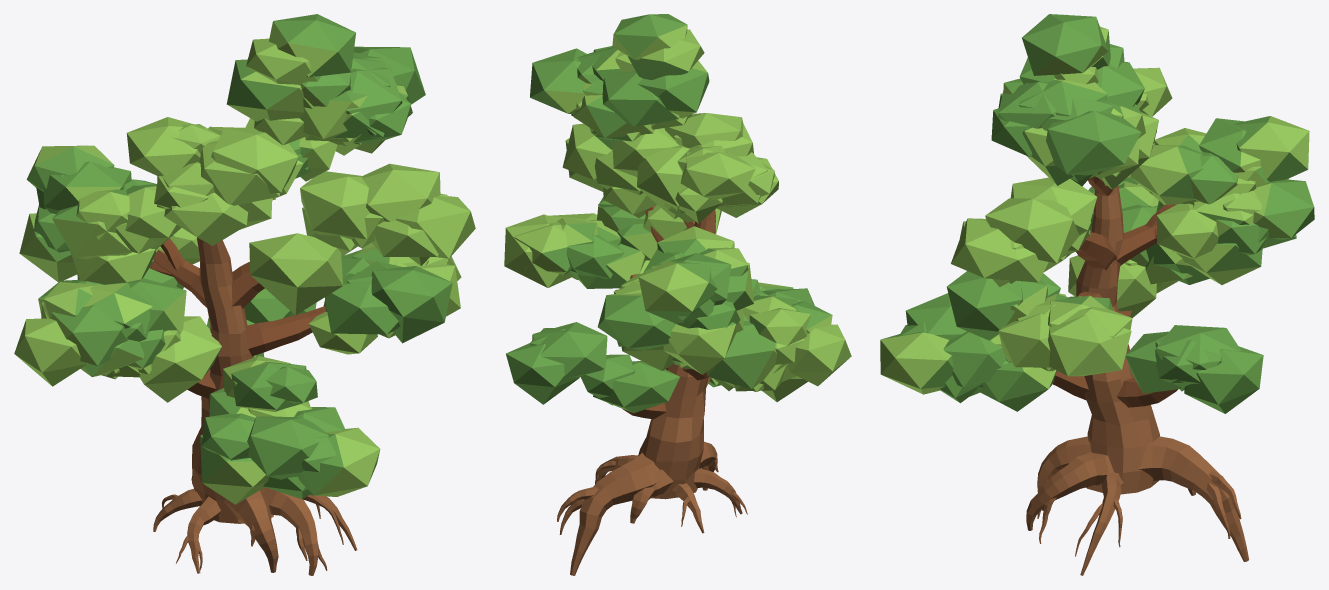
Rendered from tree_b.glb.
3 views of the same model, side by side, from view 1: azimuth 30°, elevation 25°; view 2: azimuth 150°, elevation 25°; view 3: azimuth 270°, elevation 25° (orthographic). The views are drawn at different scales.
Visible parts, largest first — view 1: BranchLeaves_6, BranchLeaves_0, BranchLeaves_5, BranchLeaves_2, BranchLeaves_4, CanopyLeaves, TreeWood, BranchLeaves_3, Branch.003, Branch.004, BranchLeaves_1, Branch.005; view 2: BranchLeaves_6, BranchLeaves_4, TreeWood, CanopyLeaves, BranchLeaves_3, BranchLeaves_2, BranchLeaves_1, BranchLeaves_5, BranchLeaves_0; view 3: BranchLeaves_4, BranchLeaves_6, TreeWood, BranchLeaves_3, BranchLeaves_0, BranchLeaves_5, BranchLeaves_1, BranchLeaves_2, CanopyLeaves, Branch.004, Branch.005, Branch.001 (+1 smaller).
Part boxes in pixels (x1,y1,x2,y2): BranchLeaves_6: [226, 14, 425, 181]; BranchLeaves_0: [200, 356, 380, 504]; BranchLeaves_5: [249, 163, 475, 315]; BranchLeaves_2: [14, 272, 221, 402]; BranchLeaves_4: [19, 145, 199, 288]; CanopyLeaves: [126, 117, 303, 245]; TreeWood: [153, 237, 357, 575]; BranchLeaves_3: [309, 242, 461, 354]; Branch.003: [247, 306, 325, 356]; Branch.004: [149, 238, 206, 307]; BranchLeaves_1: [206, 288, 316, 357]; Branch.005: [231, 261, 264, 308]; BranchLeaves_6: [530, 14, 709, 176]; BranchLeaves_4: [597, 226, 753, 374]; TreeWood: [557, 209, 747, 575]; CanopyLeaves: [637, 113, 778, 223]; BranchLeaves_3: [504, 196, 657, 288]; BranchLeaves_2: [679, 291, 851, 391]; BranchLeaves_1: [506, 322, 679, 413]; BranchLeaves_5: [562, 123, 721, 239]; BranchLeaves_0: [708, 279, 814, 401]; BranchLeaves_4: [1130, 116, 1314, 284]; BranchLeaves_6: [991, 14, 1145, 186]; TreeWood: [1026, 185, 1249, 575]; BranchLeaves_3: [947, 271, 1132, 376]; BranchLeaves_0: [880, 293, 1066, 411]; BranchLeaves_5: [951, 177, 1097, 286]; BranchLeaves_1: [1125, 325, 1263, 413]; BranchLeaves_2: [1068, 174, 1192, 317]; CanopyLeaves: [1101, 67, 1172, 189]; Branch.004: [1116, 204, 1175, 265]; Branch.005: [1076, 232, 1117, 270]; Branch.001: [1116, 376, 1177, 407].
Size of the model in its own units: 9.68 by 12.89 by 9.35.
